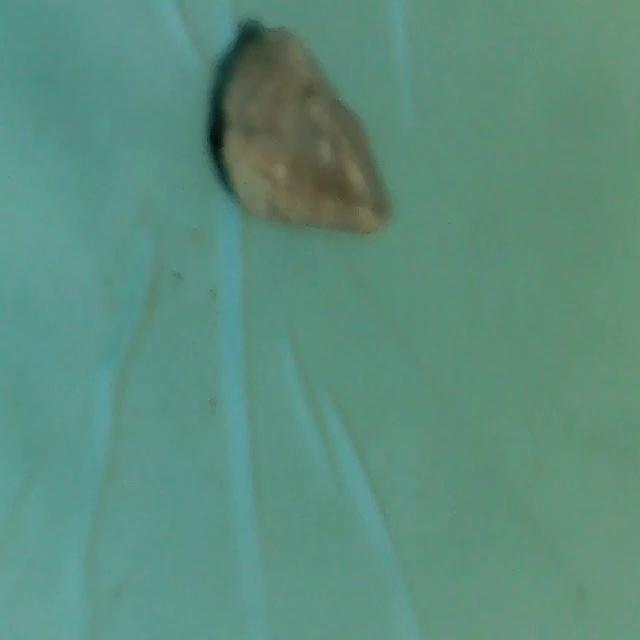rock: (196, 25, 422, 242)
